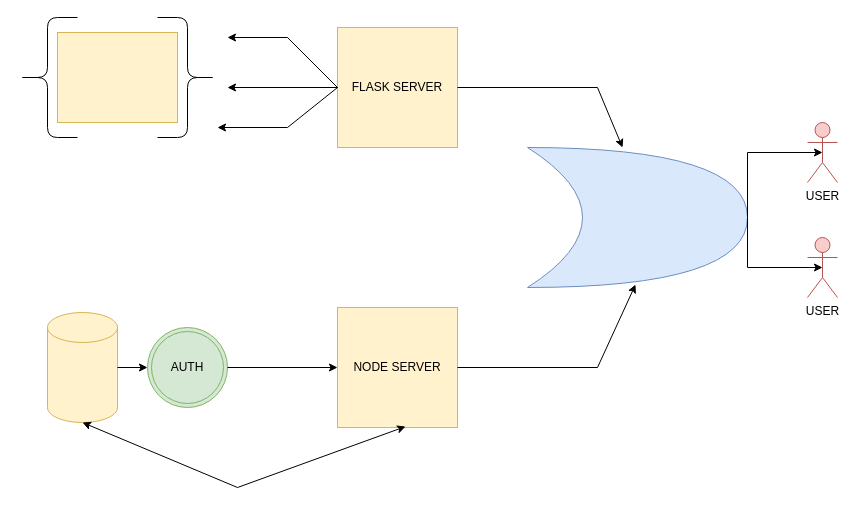
Some shapes in this 856 by 514 pixel diagram are drawn without their labels. Here are the shapes that lost their labels. From the top down, the centre of each, then its label:
At (x=117, y=77): "CROP ADVISORY FERTILISER RECOMMENDATION LEAF DISEASE DETECTION".
At (x=637, y=217): "WEB APPLICATION".
At (x=82, y=367): "MONGODB".
